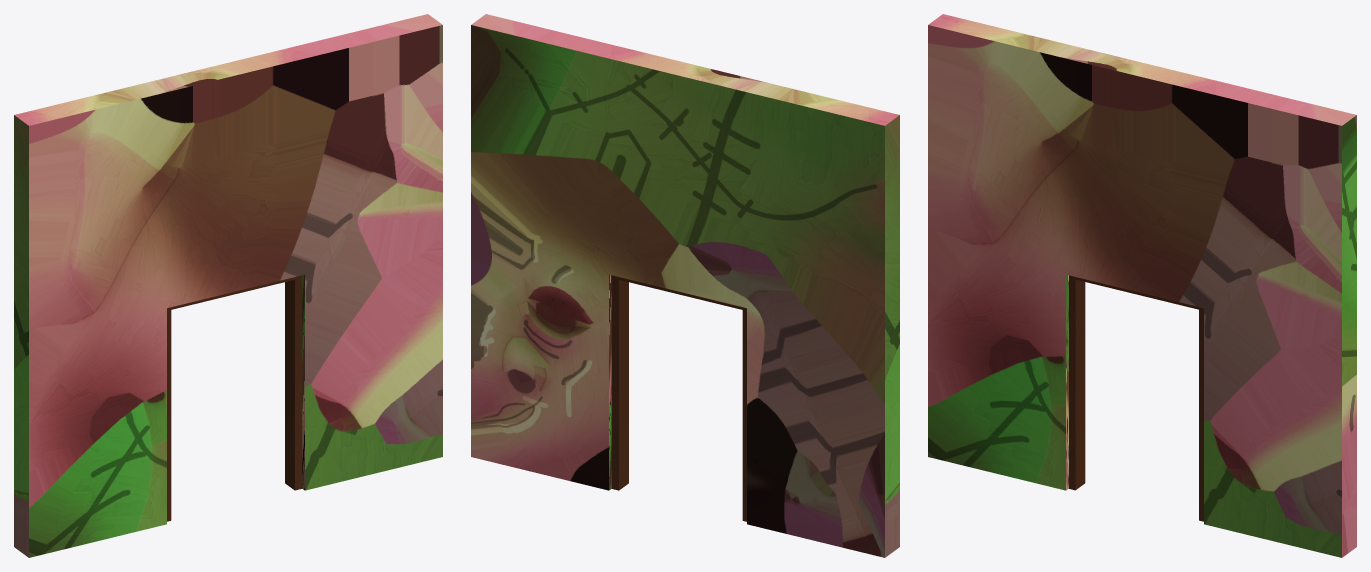
Rendered from MSH_Wall_2.fbx.
The picture shows the model from 3 angles, left to right: view 1: azimuth 30°, elevation 25°; view 2: azimuth 150°, elevation 25°; view 3: azimuth 330°, elevation 25°; orthographic projection.
Visible parts, largest first — view 1: Box101, Object048; view 2: Box101, Object048; view 3: Box101, Object048.
Boxes of the visible parts, box(x1,y1,x2,y2) form: Box101: box(14, 14, 442, 557); Object048: box(167, 275, 302, 521); Box101: box(471, 14, 899, 557); Object048: box(611, 275, 746, 521); Box101: box(928, 14, 1356, 557); Object048: box(1069, 275, 1203, 521).
Size of the model in its own units: 140 by 139 by 8.74.
